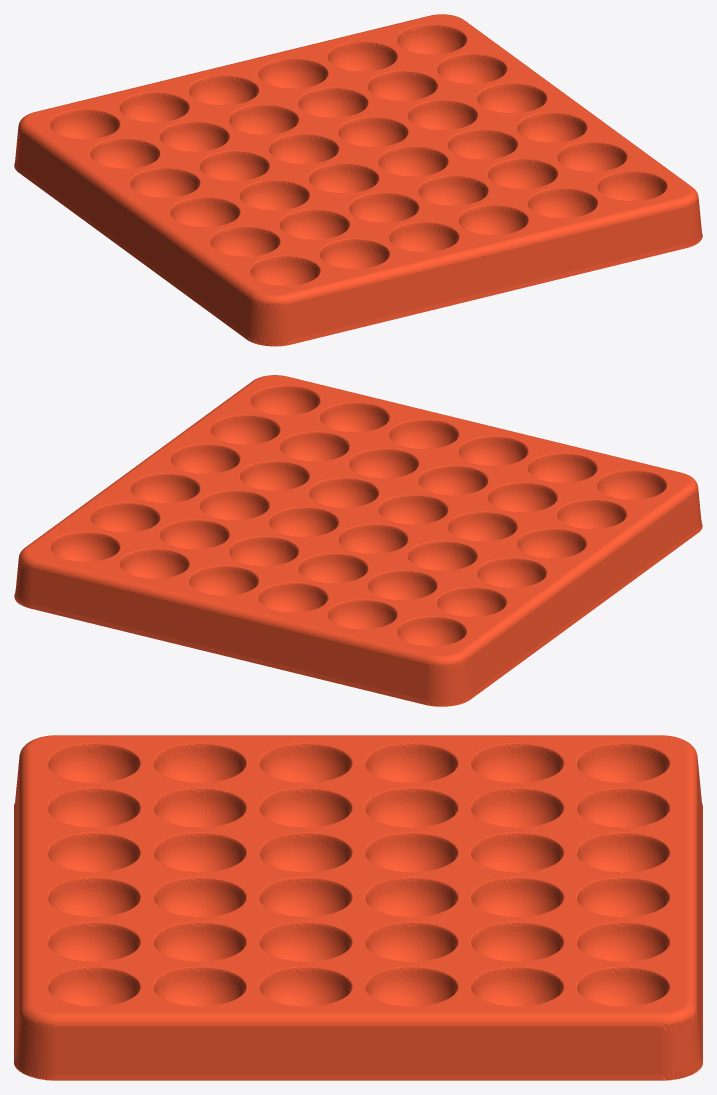
The model's file is mold.glb.
3 renders of one model, top to bottom at view 1: azimuth 30°, elevation 25°; view 2: azimuth 150°, elevation 25°; view 3: azimuth 270°, elevation 25°, orthographic. The views are drawn at different scales.
Visible parts, largest first — view 1: geometry_0; view 2: geometry_0; view 3: geometry_0.
Part boxes in pixels (<box>): geometry_0: <box>14,14,702,346</box>; geometry_0: <box>14,375,702,706</box>; geometry_0: <box>14,735,702,1080</box>.
Bounding box in the file's own units: 0.1447 × 0.014 × 0.1447.
